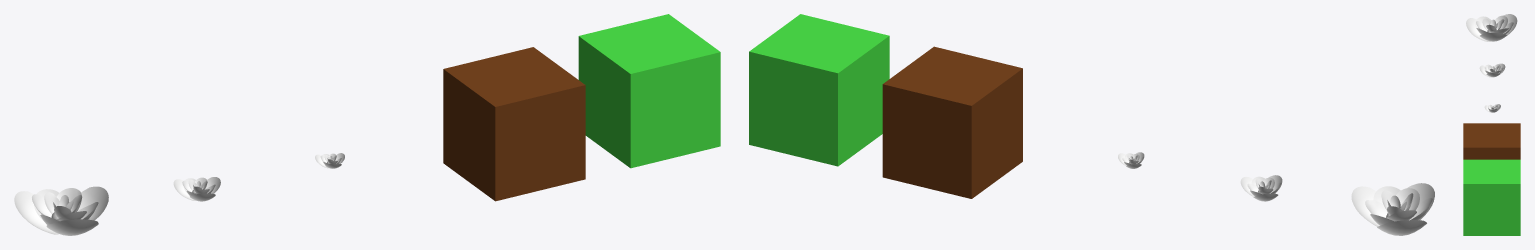
The model's file is tile_set_source.glb.
3 renders of one model, left to right at view 1: azimuth 30°, elevation 25°; view 2: azimuth 150°, elevation 25°; view 3: azimuth 270°, elevation 25°, orthographic. The views are drawn at different scales.
Parts seen in each view (by area): view 1: 01_grass, 00_dirt, 04_lettuce_full, 03_lettuce_middle, 02_lettuce_seed; view 2: 01_grass, 00_dirt, 04_lettuce_full, 03_lettuce_middle; view 3: 00_dirt, 01_grass, 04_lettuce_full, 03_lettuce_middle, 02_lettuce_seed.
Part boxes in pixels (x1,y1,x2,y2): 01_grass: (443,47,585,201); 00_dirt: (578,14,720,168); 04_lettuce_full: (14,186,108,235); 03_lettuce_middle: (173,177,220,201); 02_lettuce_seed: (315,153,344,168); 01_grass: (882,46,1022,198); 00_dirt: (749,14,889,166); 04_lettuce_full: (1351,183,1434,235); 03_lettuce_middle: (1240,175,1282,201); 00_dirt: (1463,159,1520,235); 01_grass: (1463,123,1520,159); 04_lettuce_full: (1466,14,1517,41); 03_lettuce_middle: (1479,63,1505,77); 02_lettuce_seed: (1484,104,1500,112).
Bounding box in the file's own units: 14.82 × 2 × 2.
